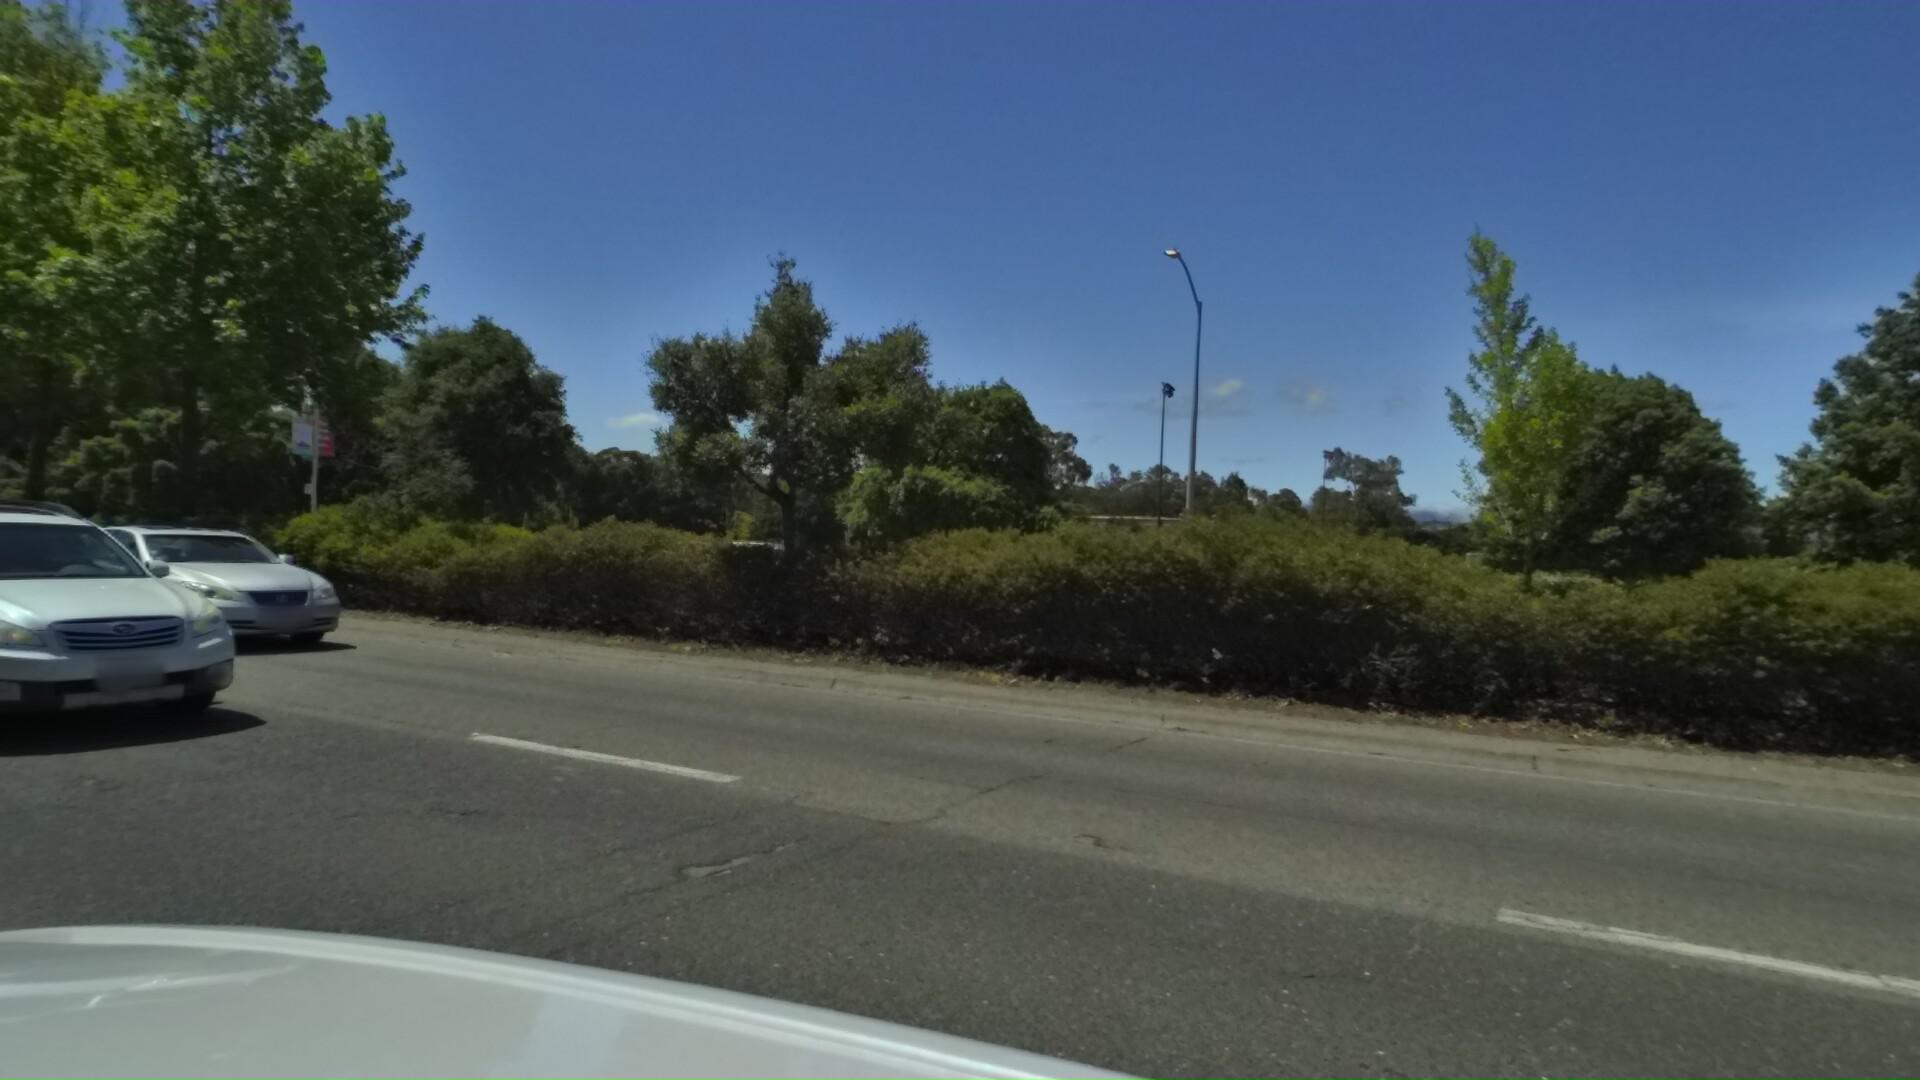car: (0, 480, 272, 758), (21, 510, 393, 658)
